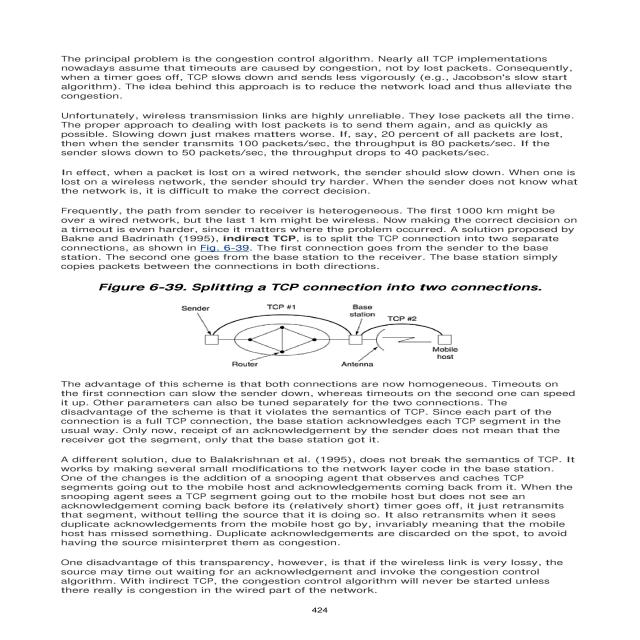diagram: (83, 272, 578, 374)
